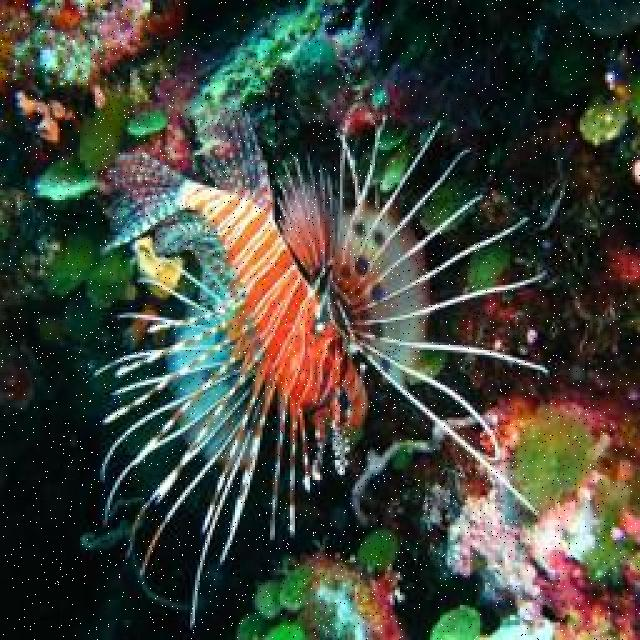fish: (90, 112, 549, 626)
